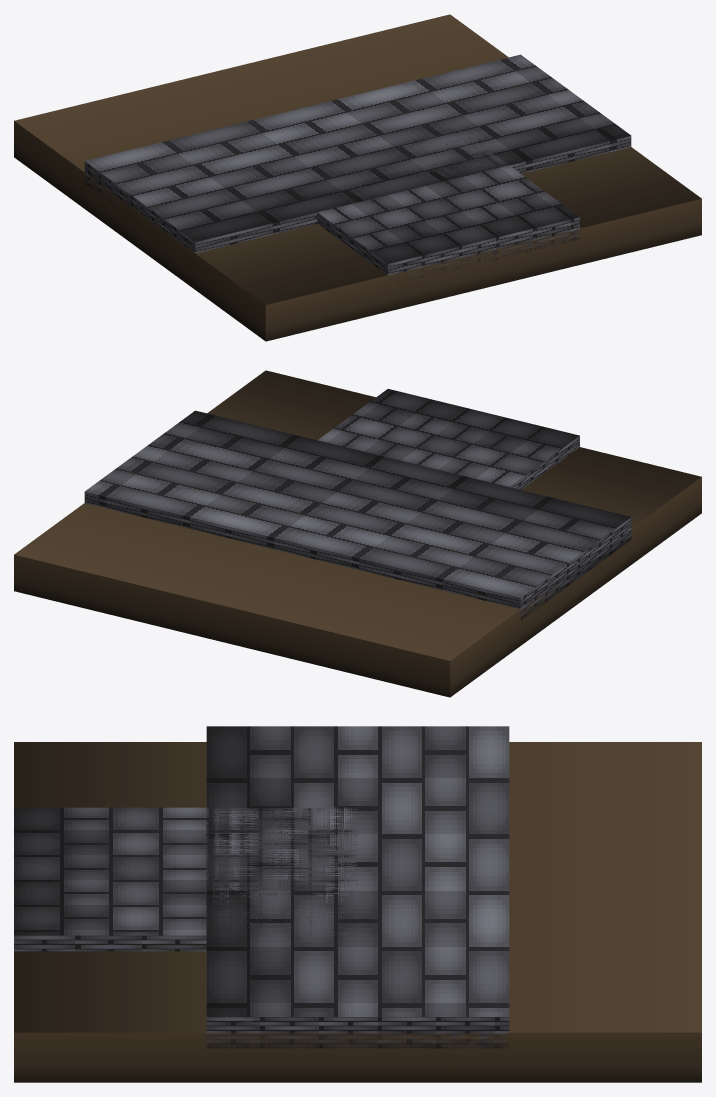
File: path_tee.gltf
The picture shows the model from 3 angles, top to bottom: view 1: azimuth 30°, elevation 25°; view 2: azimuth 150°, elevation 25°; view 3: azimuth 270°, elevation 25°; orthographic projection. The views are drawn at different scales.
Parts seen in each view (by area): view 1: path_tee; view 2: path_tee; view 3: path_tee.
Part boxes in pixels (box(x1,y1,x2,y2)): path_tee: box(14, 14, 701, 341); path_tee: box(14, 370, 701, 697); path_tee: box(14, 726, 701, 1082).
Size of the model in its own units: 1 by 0.105 by 1.
1 material, 1 textured.
